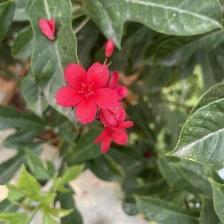jatropha: (59, 62, 121, 126)
